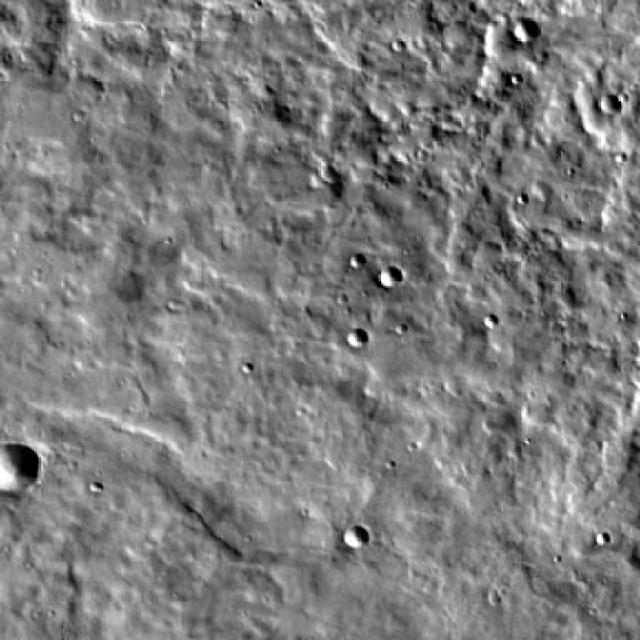crater: (0, 448, 34, 499), (341, 523, 368, 548), (514, 20, 540, 43), (377, 268, 400, 290), (598, 96, 619, 116), (344, 331, 365, 349)
